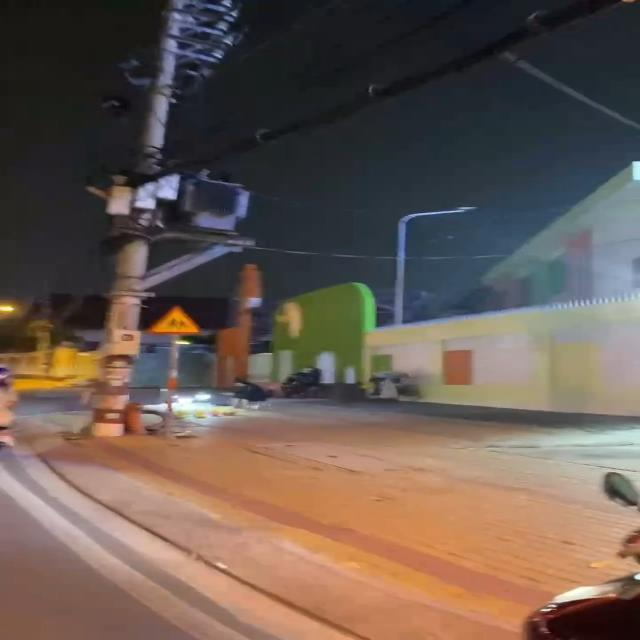225-chu-y-tre-em: (150, 304, 202, 336)
